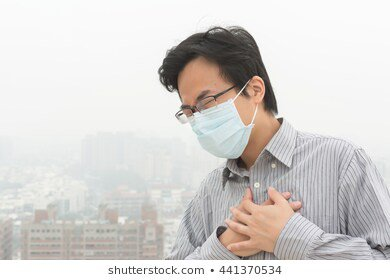mask: (148, 27, 285, 173)
